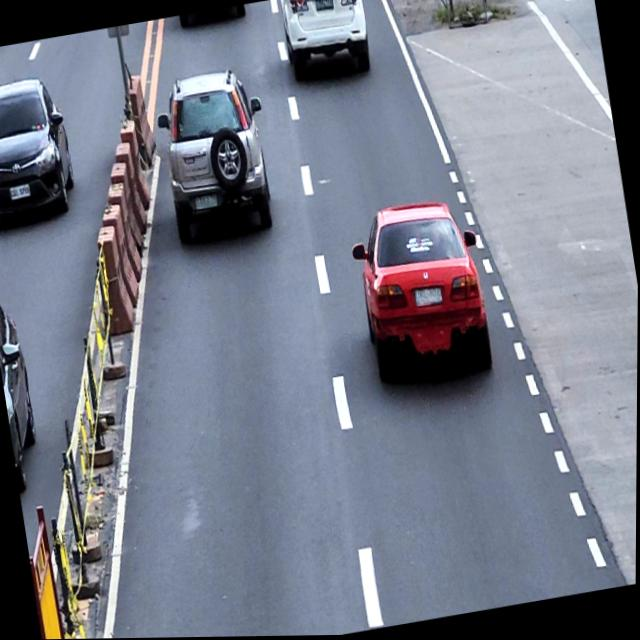Car: (346, 193, 498, 392), (151, 63, 281, 246), (0, 72, 81, 232), (0, 285, 46, 492), (277, 0, 374, 85)
License-Plate: (412, 283, 446, 310), (194, 192, 220, 212), (8, 183, 32, 201), (313, 0, 334, 14)
